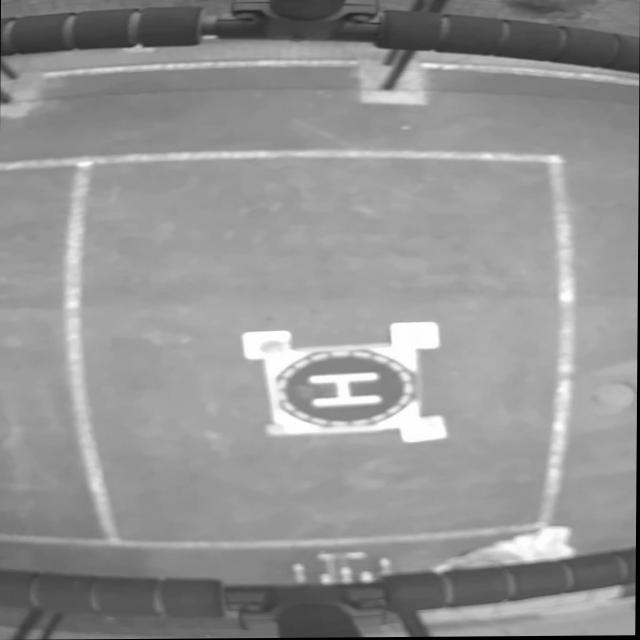Helipad: (307, 372, 380, 409)
